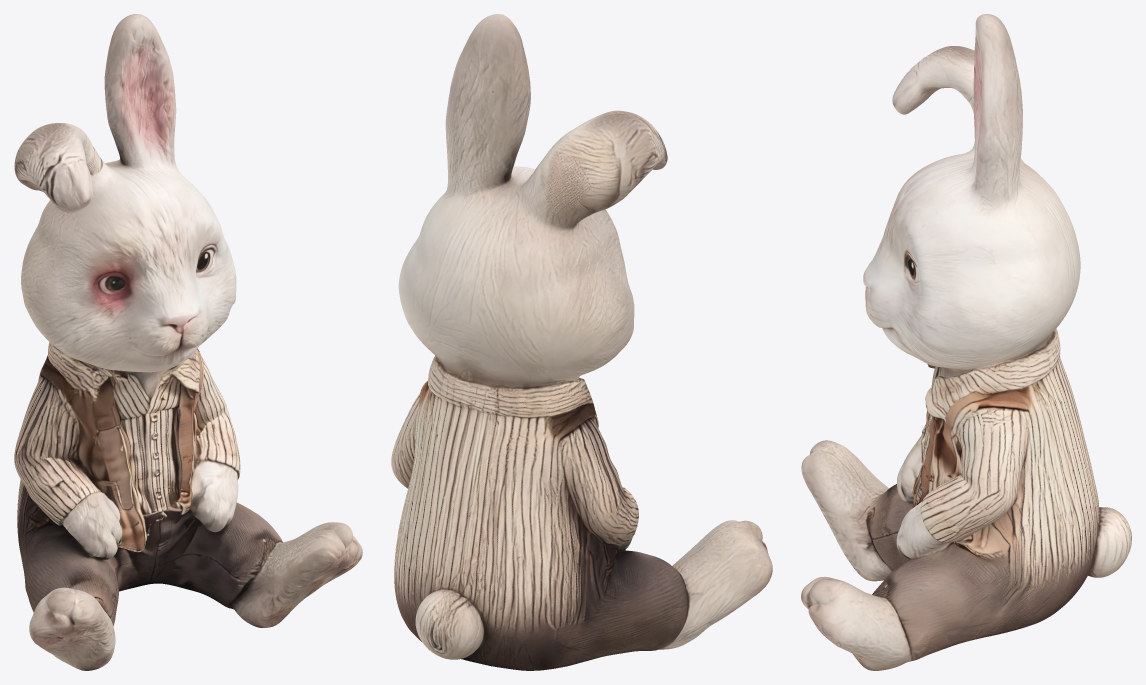
Rendered from conejosentado.glb.
3 renders of one model, left to right at view 1: azimuth 30°, elevation 25°; view 2: azimuth 150°, elevation 25°; view 3: azimuth 270°, elevation 25°, orthographic. The views are drawn at different scales.
Parts seen in each view (by area): view 1: model; view 2: model; view 3: model.
Part boxes in pixels (<box>): model: <box>14,14,362,670</box>; model: <box>391,14,772,670</box>; model: <box>801,14,1131,670</box>.
Size of the model in its own units: 1.11 by 1.9 by 0.9301.
1 material, 1 textured.
